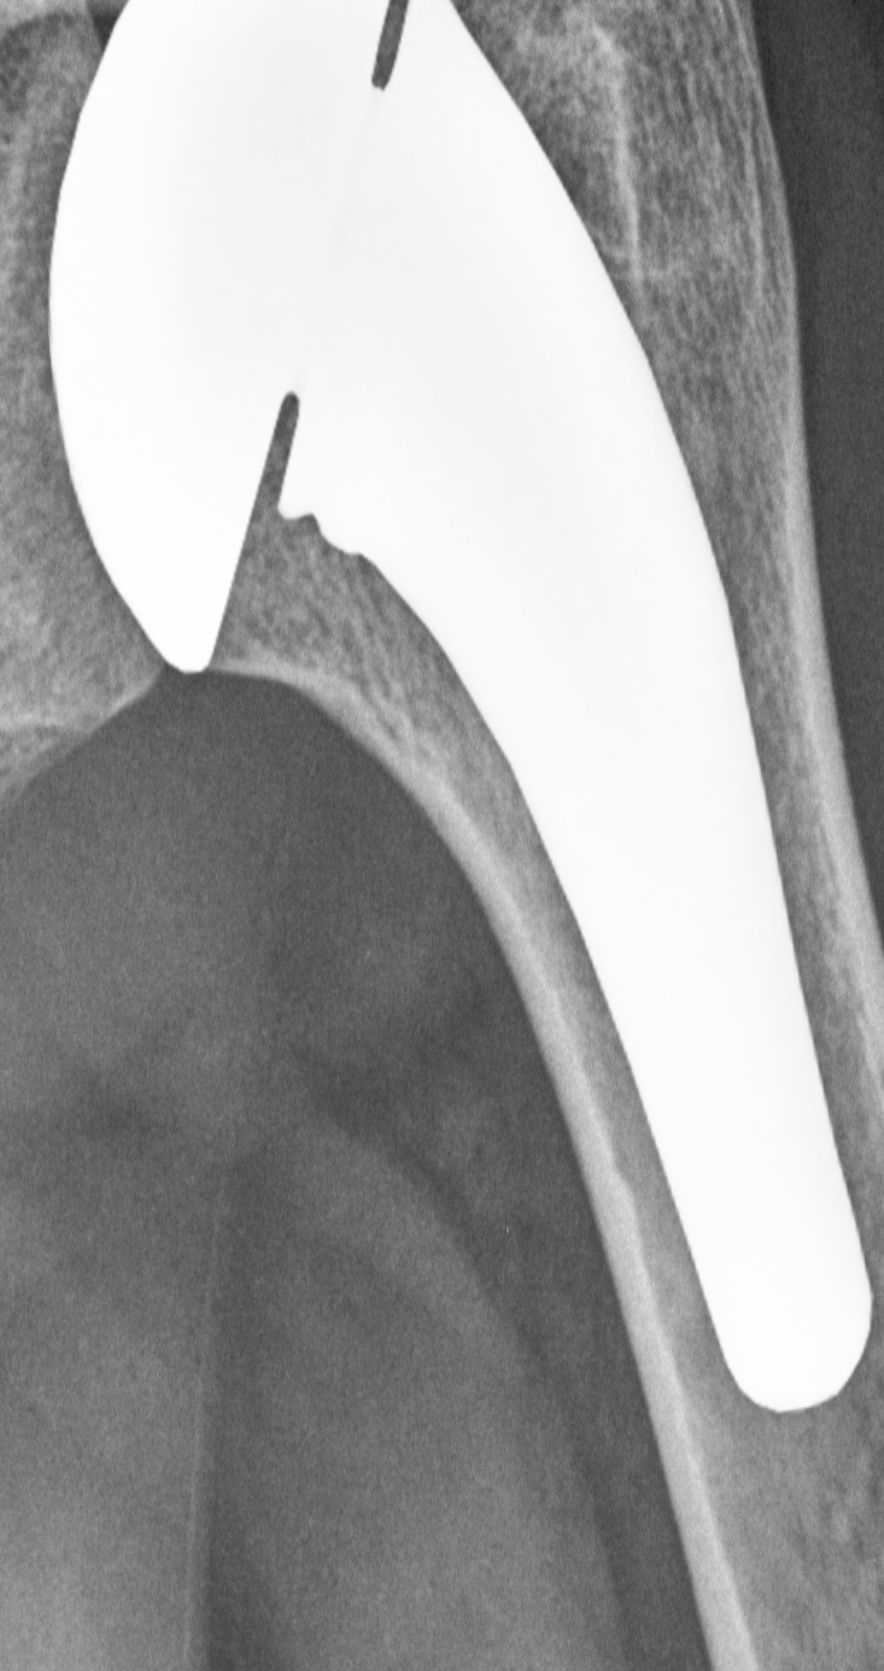Shoulder - AequalisAscendFlex - Tornier: (38, 6, 577, 690)
